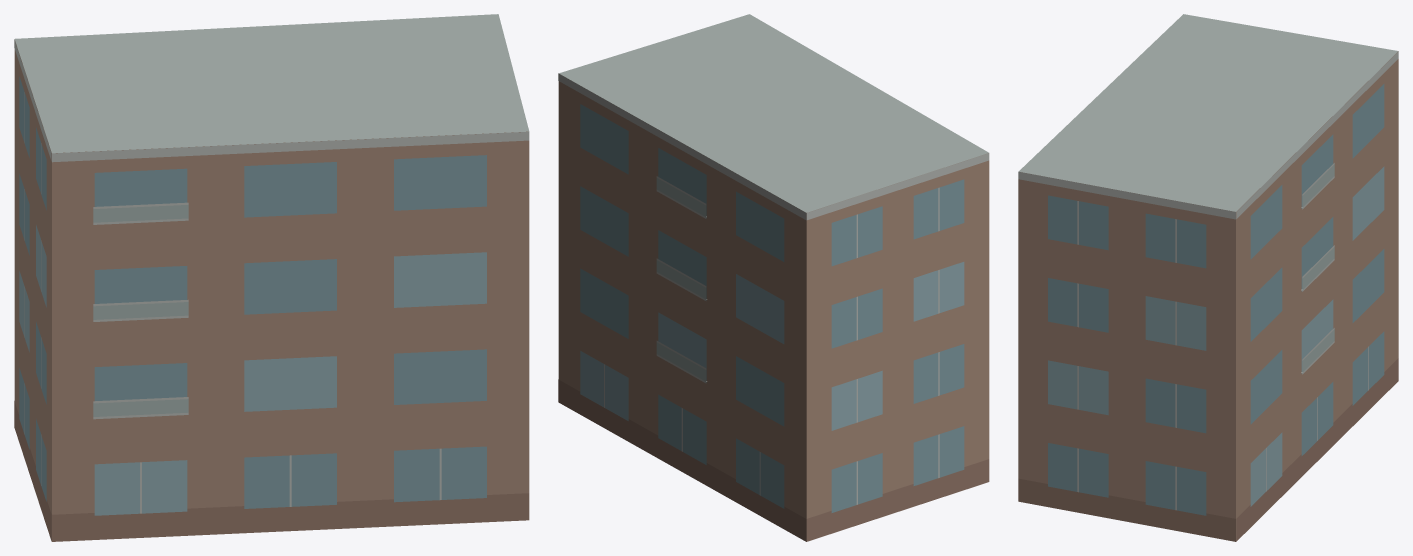
The model's file is survey-upis-32565562.glb.
The picture shows the model from 3 angles, left to right: view 1: azimuth 30°, elevation 25°; view 2: azimuth 150°, elevation 25°; view 3: azimuth 270°, elevation 25°; orthographic projection. The views are drawn at different scales.
Visible parts, largest first — view 1: survey-upis-32565562.tmp; view 2: survey-upis-32565562.tmp; view 3: survey-upis-32565562.tmp.
Part boxes in pixels (<box>): survey-upis-32565562.tmp: <box>14,14,529,541</box>; survey-upis-32565562.tmp: <box>558,14,989,541</box>; survey-upis-32565562.tmp: <box>1018,14,1398,541</box>.
Bounding box in the file's own units: 13.65 × 10.6 × 11.08.
